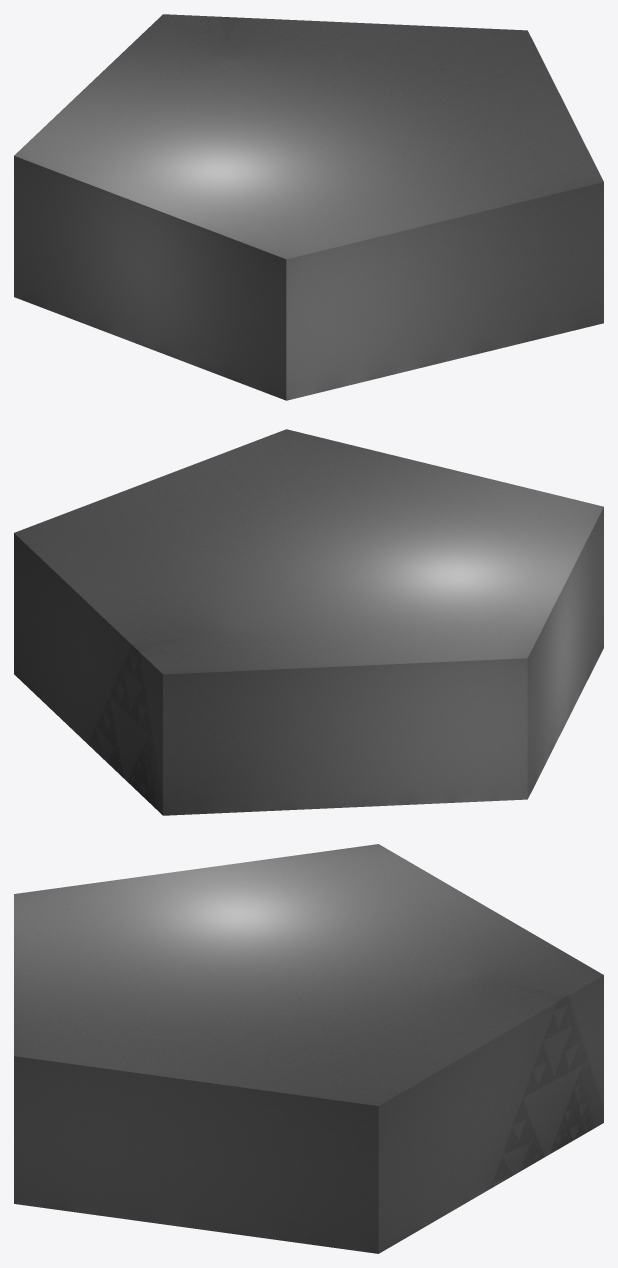
The model's file is snowblind-from-fbx.fbx.
3 renders of one model, top to bottom at view 1: azimuth 30°, elevation 25°; view 2: azimuth 150°, elevation 25°; view 3: azimuth 270°, elevation 25°, orthographic. The views are drawn at different scales.
Visible parts, largest first — view 1: Circle; view 2: Circle; view 3: Circle.
Boxes of the visible parts, x1=… form: Circle: x1=14, y1=14, x2=603, y2=400; Circle: x1=14, y1=429, x2=603, y2=815; Circle: x1=14, y1=844, x2=603, y2=1253.
Size of the model in its own units: 1902 by 500 by 1809.
Materials: 3 (3 with a texture image).
